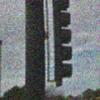traffic lights: (53, 0, 72, 87)
